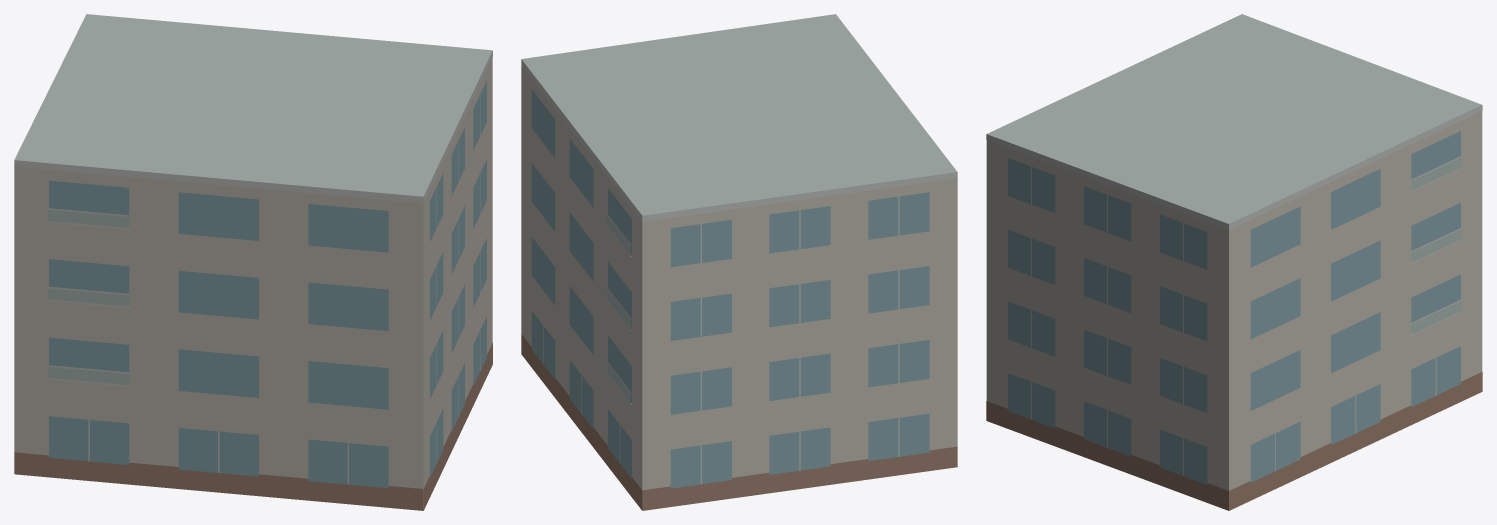
File: survey-upis-32533948.glb
3 views of the same model, side by side, from view 1: azimuth 30°, elevation 25°; view 2: azimuth 150°, elevation 25°; view 3: azimuth 270°, elevation 25° (orthographic). The views are drawn at different scales.
Visible parts, largest first — view 1: survey-upis-32533948.tmp; view 2: survey-upis-32533948.tmp; view 3: survey-upis-32533948.tmp.
Boxes of the visible parts, left/top/right/bottom form: survey-upis-32533948.tmp: left=14, top=14, right=492, bottom=510; survey-upis-32533948.tmp: left=521, top=14, right=957, bottom=510; survey-upis-32533948.tmp: left=986, top=14, right=1482, bottom=510.
Size of the model in its own units: 18.26 by 11.62 by 18.21.
